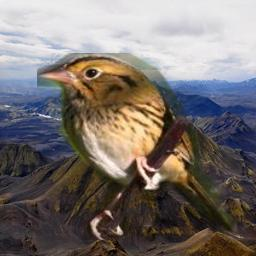Sparrow: (37, 53, 237, 240)
